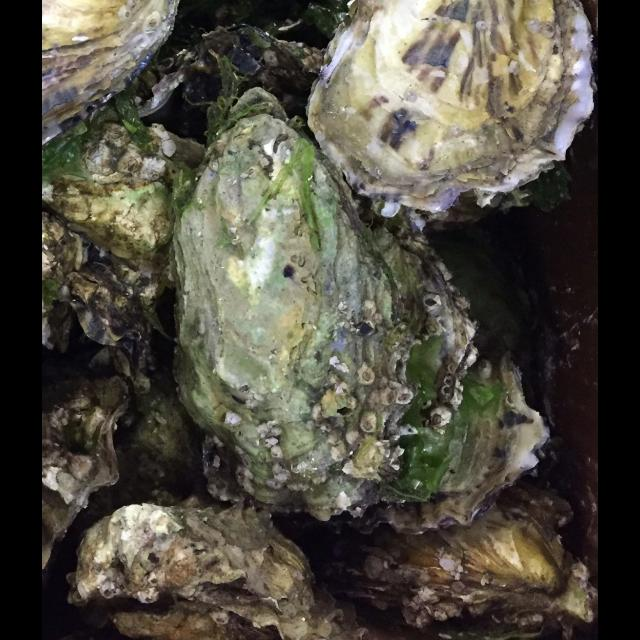Oyster-Closed: (173, 90, 477, 515), (307, 0, 594, 213), (318, 486, 594, 640), (330, 352, 546, 532), (75, 331, 232, 528), (42, 84, 180, 286), (42, 0, 178, 142), (42, 375, 129, 584), (62, 252, 166, 391), (426, 231, 539, 355), (181, 24, 323, 109), (42, 215, 101, 356)
Oyster-Open: (70, 499, 421, 640)
